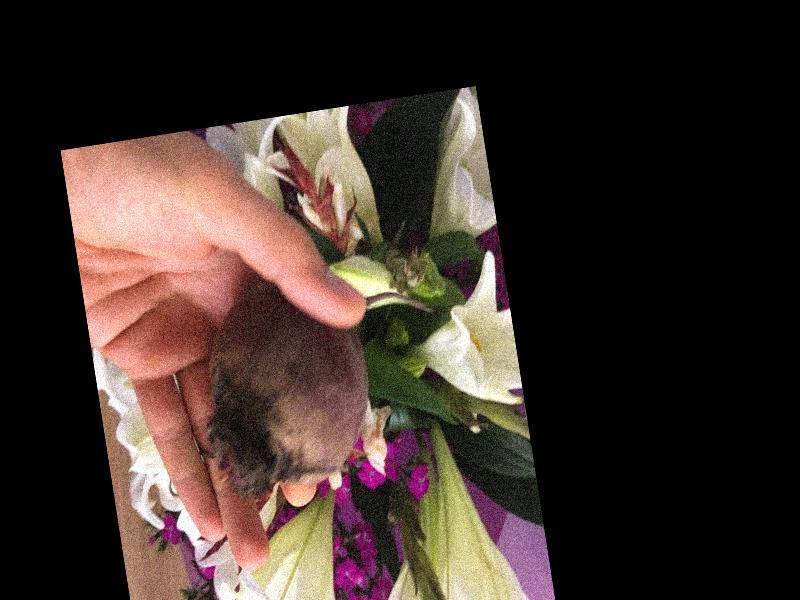Beet: (192, 260, 459, 501)
